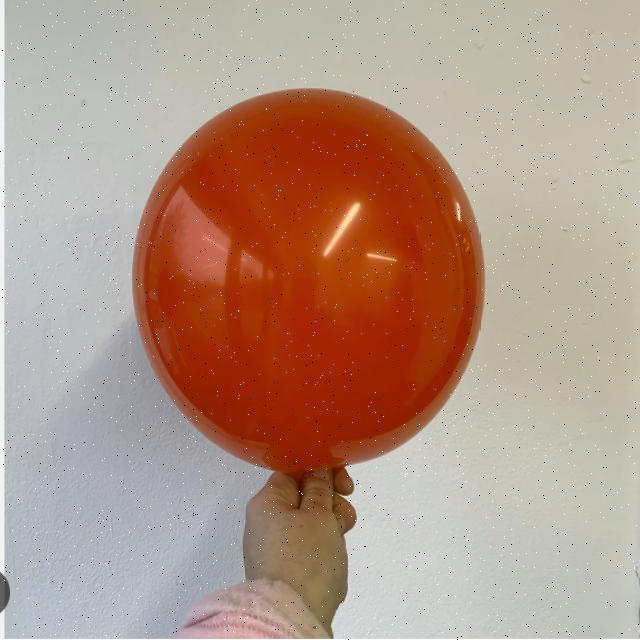red: (130, 86, 485, 487)
